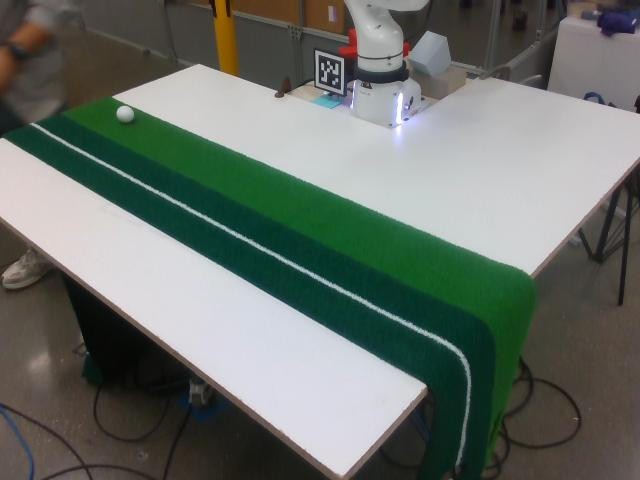golf_balls: (116, 106, 134, 122)
